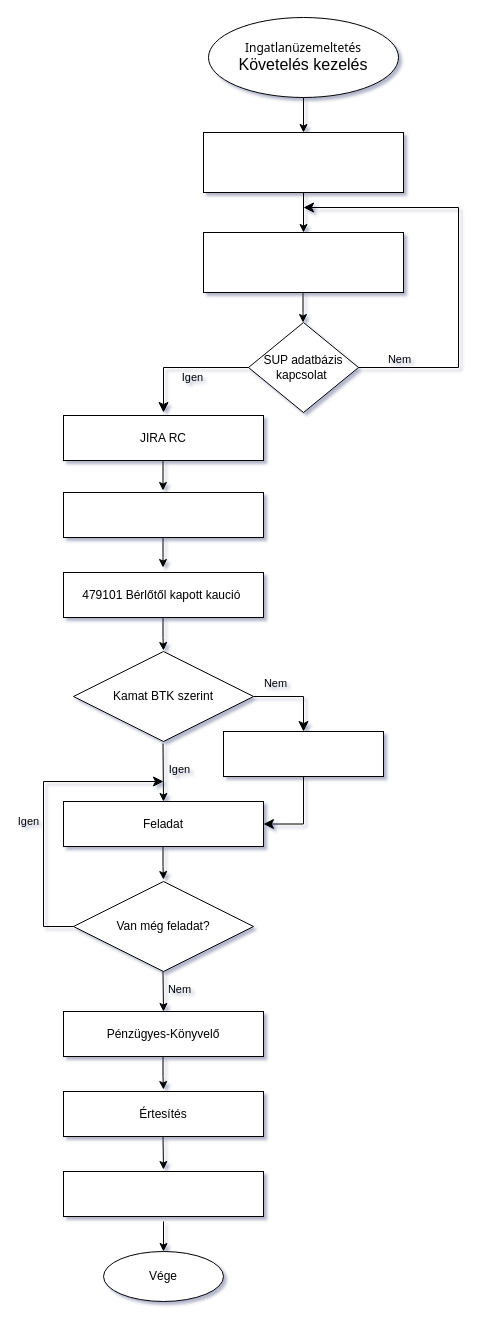
The diagram is 492 pixels wide and 1325 high, and some of its shapes have lost their labels. The shapes that lost their labels are listed below. From the top down, each one's centre as x and y in pixels, then its label:
point 303,162: Bérbe adó select eo_cores
point 303,262: Bérbe vevő select par_partners
point 163,515: 311000 Vevői követelés egyenlege
point 303,753: Kamat %
point 163,1193: Státusz = 'Könyvelőre vár'
